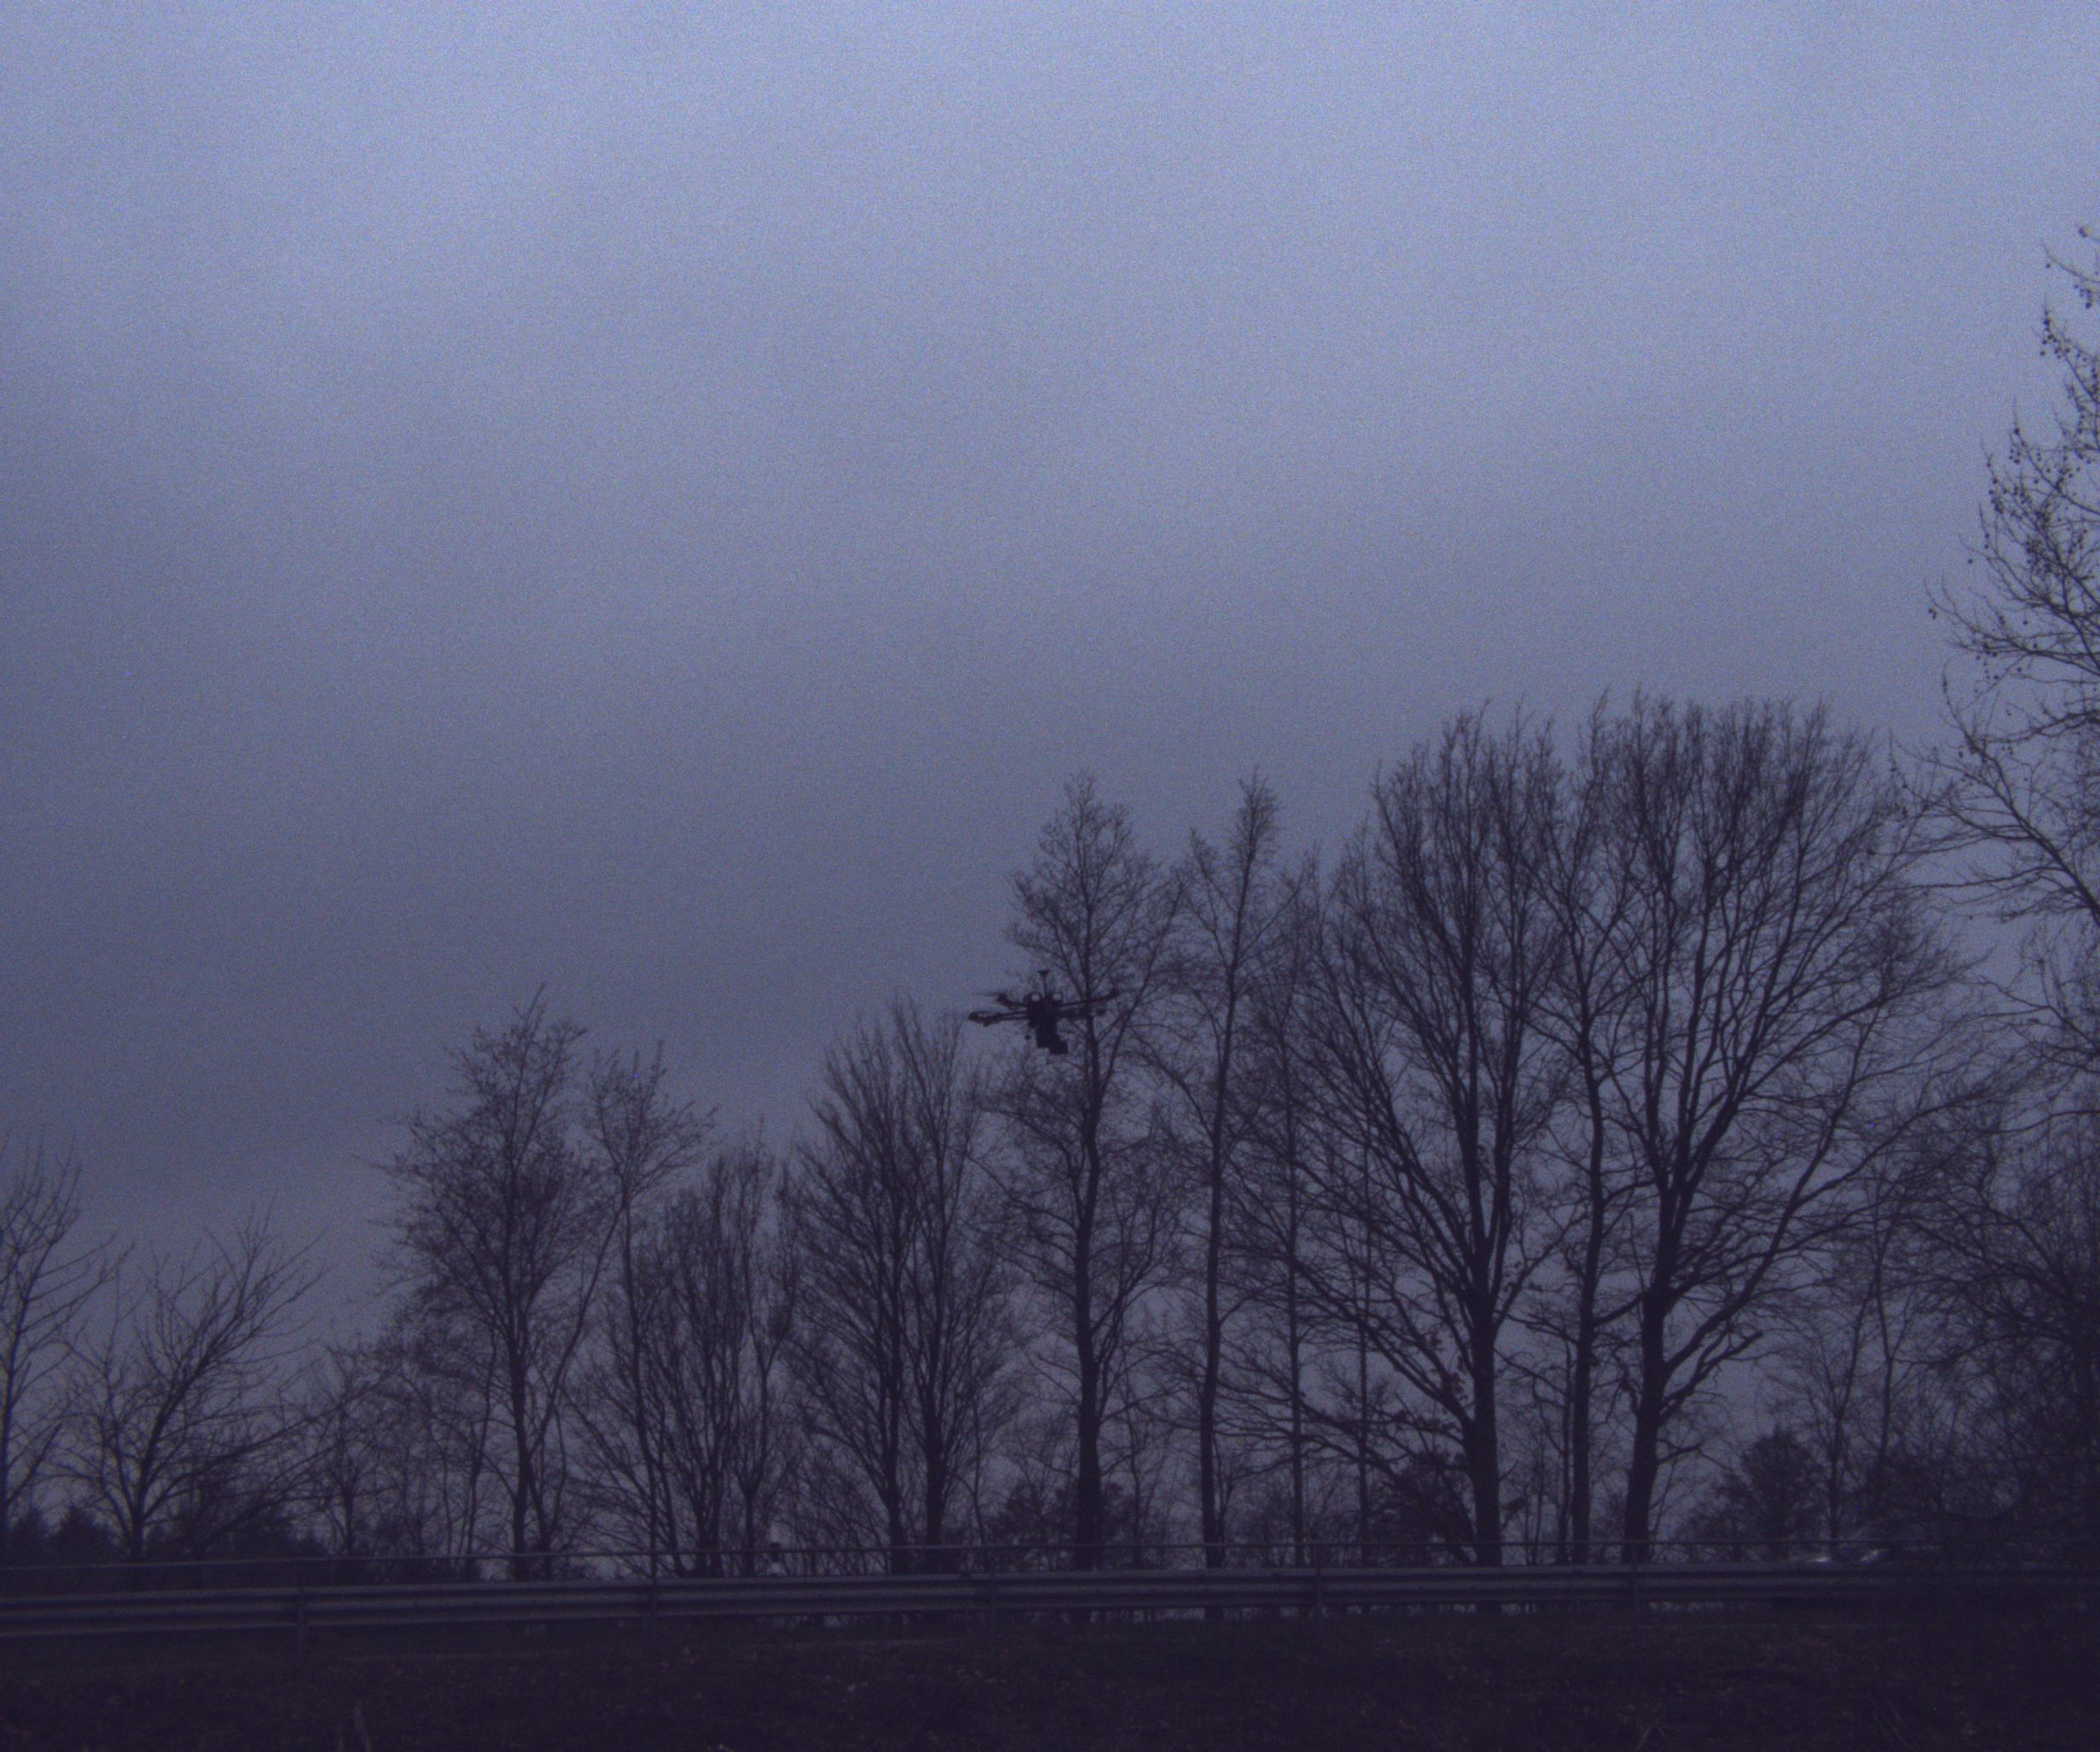Drohne: (912, 964, 1163, 1097)
